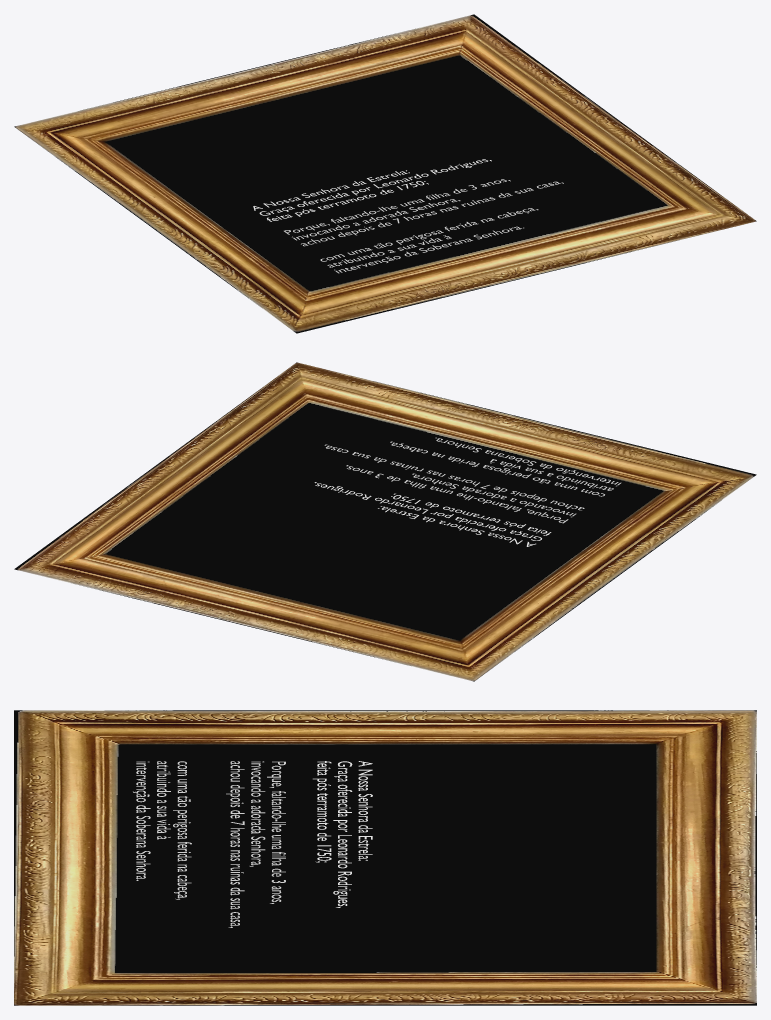
The model's file is nsraestrela.glb.
3 renders of one model, top to bottom at view 1: azimuth 30°, elevation 25°; view 2: azimuth 150°, elevation 25°; view 3: azimuth 270°, elevation 25°, orthographic. The views are drawn at different scales.
Parts seen in each view (by area): view 1: gold-picture-frame-6.001, Text.004, Text.005, Text.003; view 2: gold-picture-frame-6.001, Text.004, Text.005, Text.003; view 3: gold-picture-frame-6.001, Text.004, Text.005, Text.003.
Part boxes in pixels (x1=…): gold-picture-frame-6.001: x1=14, y1=14, x2=756, y2=333; Text.004: x1=284, y1=179, x2=563, y2=246; Text.005: x1=253, y1=159, x2=491, y2=221; Text.003: x1=320, y1=208, x2=538, y2=273; gold-picture-frame-6.001: x1=14, y1=362, x2=756, y2=681; Text.004: x1=324, y1=444, x2=584, y2=523; Text.005: x1=314, y1=482, x2=551, y2=546; Text.003: x1=390, y1=437, x2=621, y2=496; gold-picture-frame-6.001: x1=14, y1=710, x2=756, y2=1005; Text.004: x1=226, y1=761, x2=285, y2=927; Text.005: x1=313, y1=761, x2=372, y2=907; Text.003: x1=133, y1=761, x2=191, y2=899.
Bounding box in the file's own units: 1.78 × 0.0235 × 1.9.
Materials: 5 (1 with a texture image).
